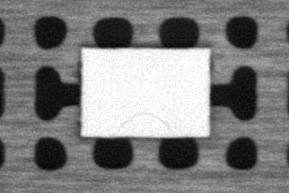DIE_CRACK: (119, 109, 169, 128)
